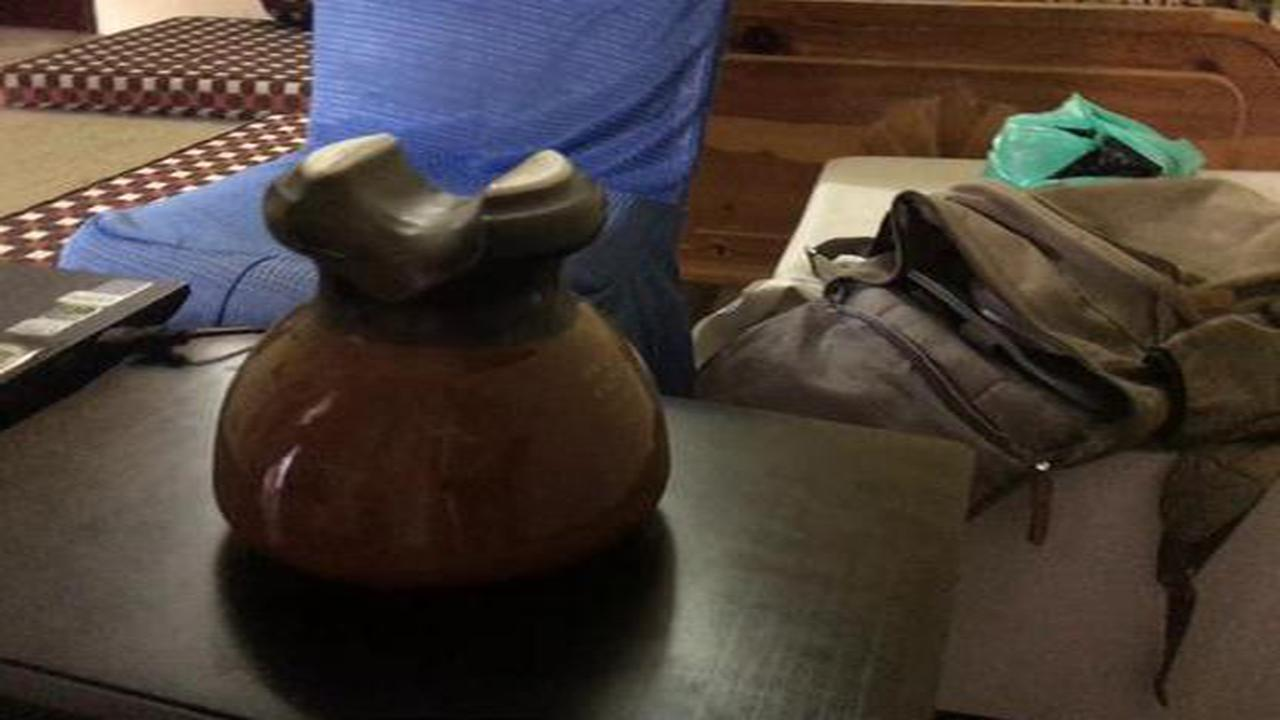insulator_pin: (203, 114, 702, 598)
